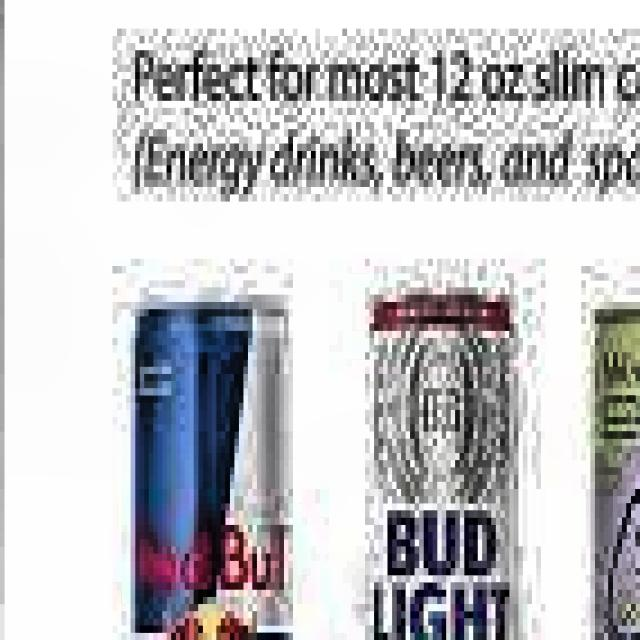metal: (112, 280, 306, 640), (356, 280, 523, 640)
